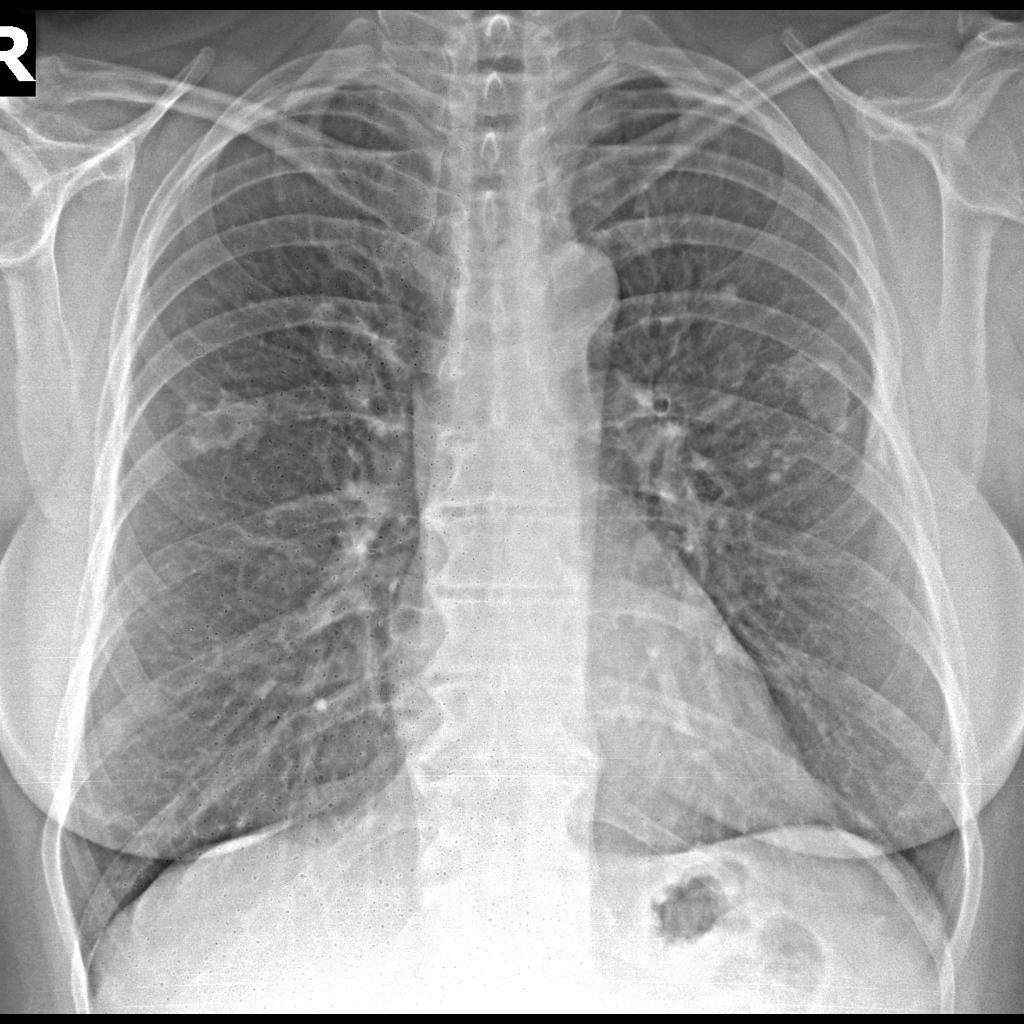Nodule: (179, 372, 273, 473), (776, 351, 859, 446)
